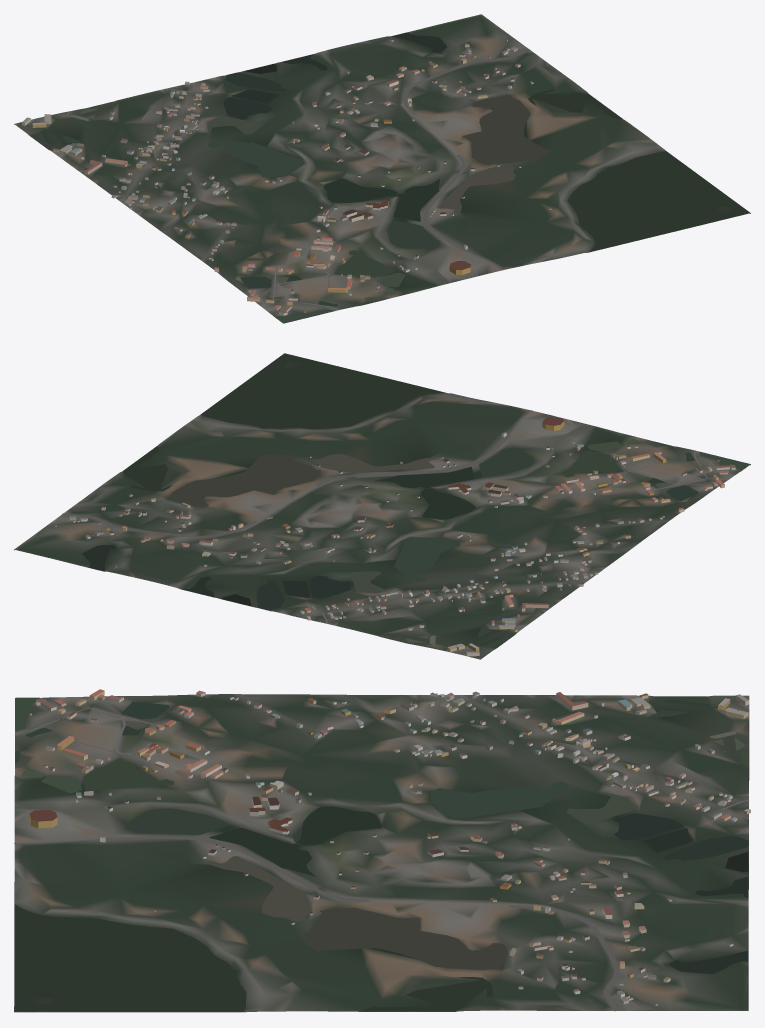
The picture shows the model from 3 angles, top to bottom: view 1: azimuth 30°, elevation 25°; view 2: azimuth 150°, elevation 25°; view 3: azimuth 270°, elevation 25°; orthographic projection. The views are drawn at different scales.
Parts seen in each view (by area): view 1: ground, water, buildings, roads; view 2: ground, water, buildings, roads; view 3: ground, water, buildings, roads.
Boxes of the visible parts, box(x1,y1,x2,y2) form: ground: box(14, 14, 750, 323); water: box(30, 32, 749, 323); buildings: box(22, 39, 551, 315); roads: box(168, 49, 530, 309); ground: box(14, 354, 750, 659); water: box(82, 353, 749, 648); buildings: box(55, 416, 735, 656); roads: box(62, 410, 707, 623); ground: box(14, 694, 749, 1012); water: box(14, 696, 748, 1011); buildings: box(29, 689, 750, 1005); roads: box(14, 707, 748, 1011).
Bounding box in the file's own units: 1419 × 27.37 × 1407.
